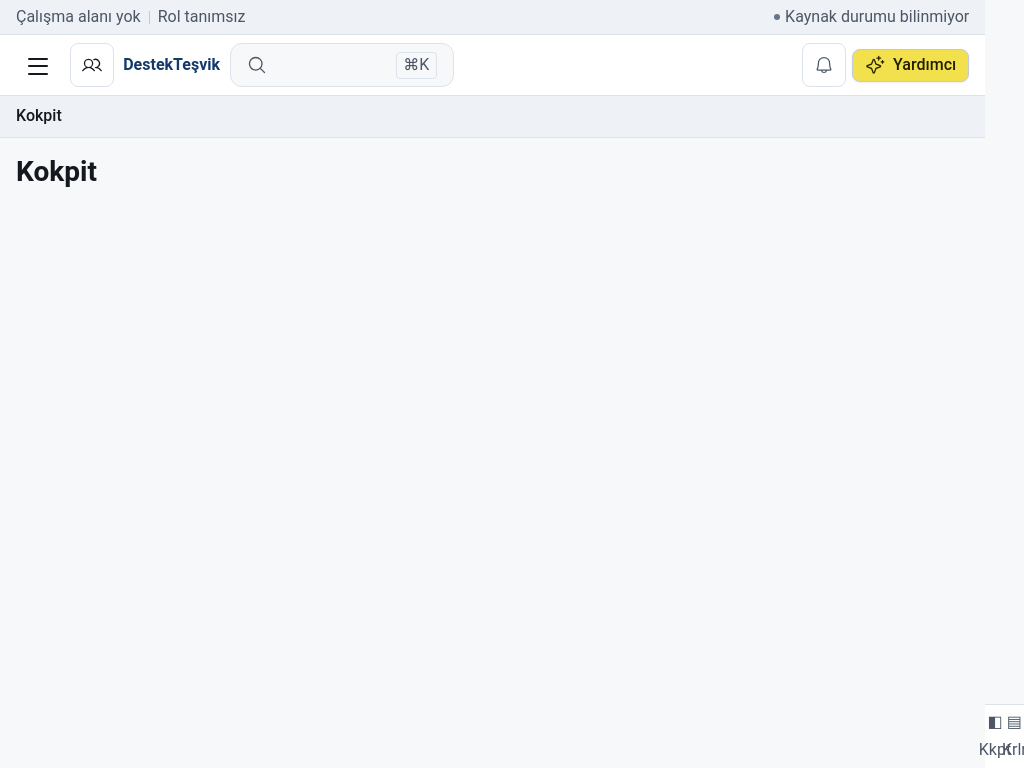
Test: a panel opened on a phone does not survive a trip to the desktop › writes no drawer state at all on a crossing - there is no layout-scoped effect left to loop
The image size is (1024, 768).
Click the button named "Menü" at (38, 65), box top-left (16, 43), bottom-right (60, 87)
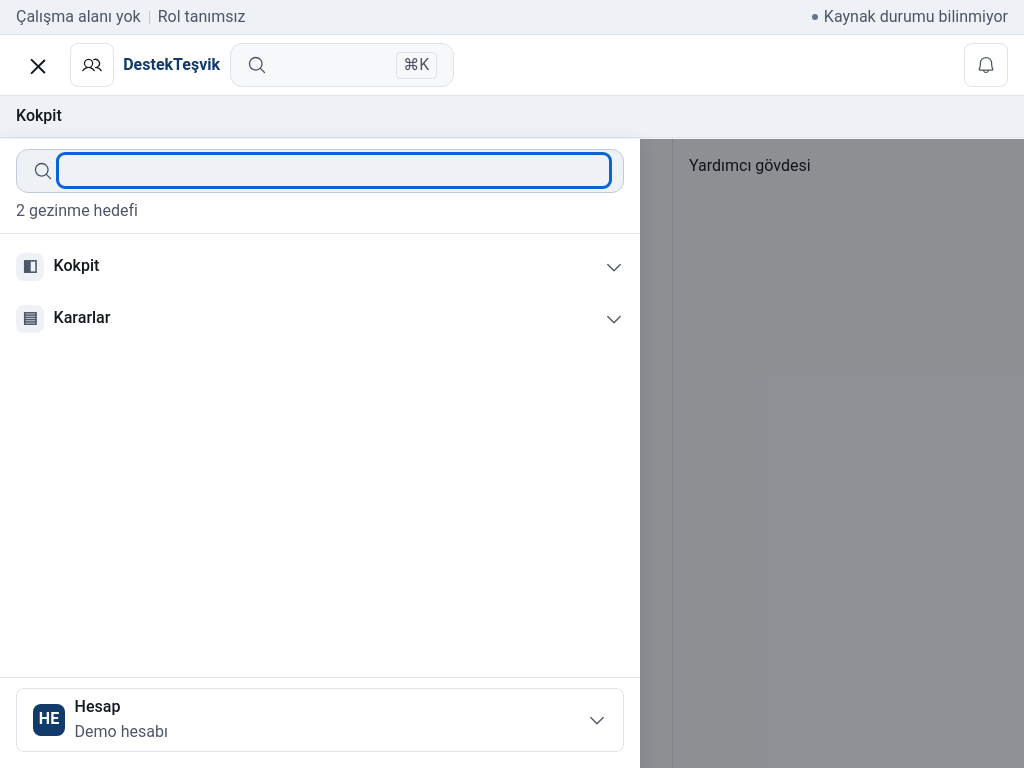
expect the dialog is shown: met, box top-left (0, 139), bottom-right (640, 767)
